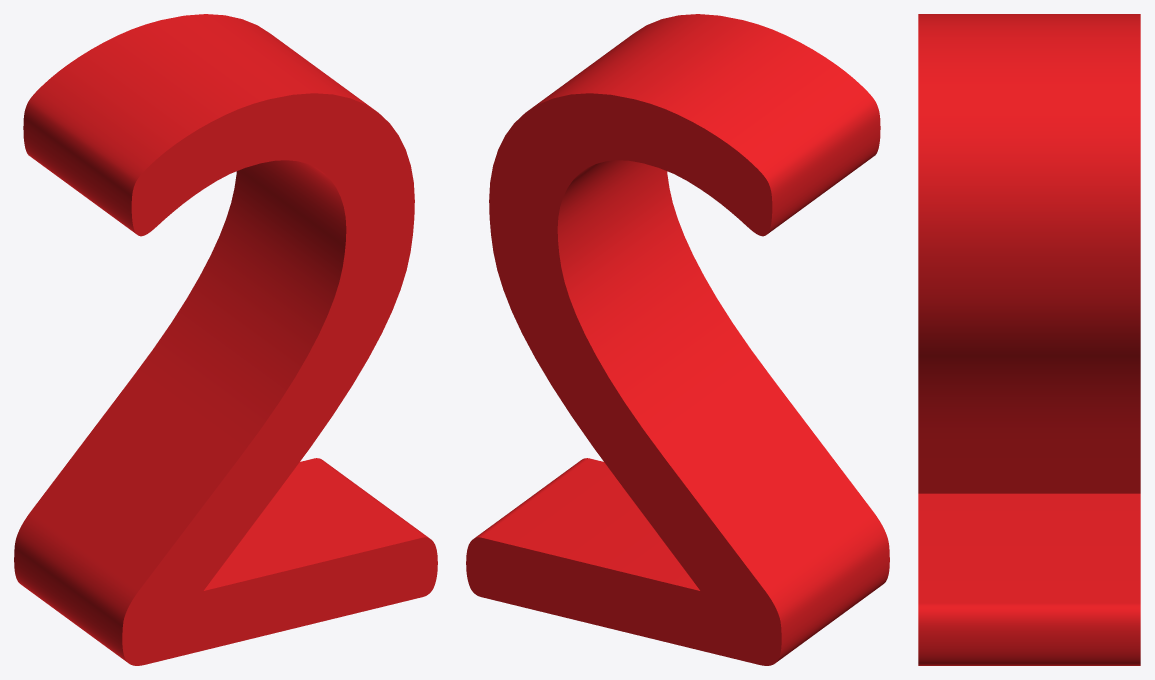
3 renders of one model, left to right at view 1: azimuth 30°, elevation 25°; view 2: azimuth 150°, elevation 25°; view 3: azimuth 270°, elevation 25°, orthographic. The views are drawn at different scales.
Parts seen in each view (by area): view 1: node_id165; view 2: node_id165; view 3: node_id165.
Part boxes in pixels (bbox=[...]): node_id165: bbox=[14, 14, 437, 665]; node_id165: bbox=[466, 14, 889, 665]; node_id165: bbox=[918, 14, 1140, 665].
Bounding box in the file's own units: 0.0252 × 0.0409 × 0.015.
1 material, 1 textured.
